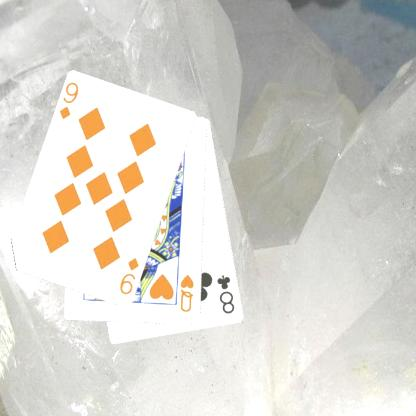8C: (214, 272, 236, 315)
9D: (117, 254, 141, 297), (56, 79, 80, 121)
QH: (177, 272, 196, 314)
